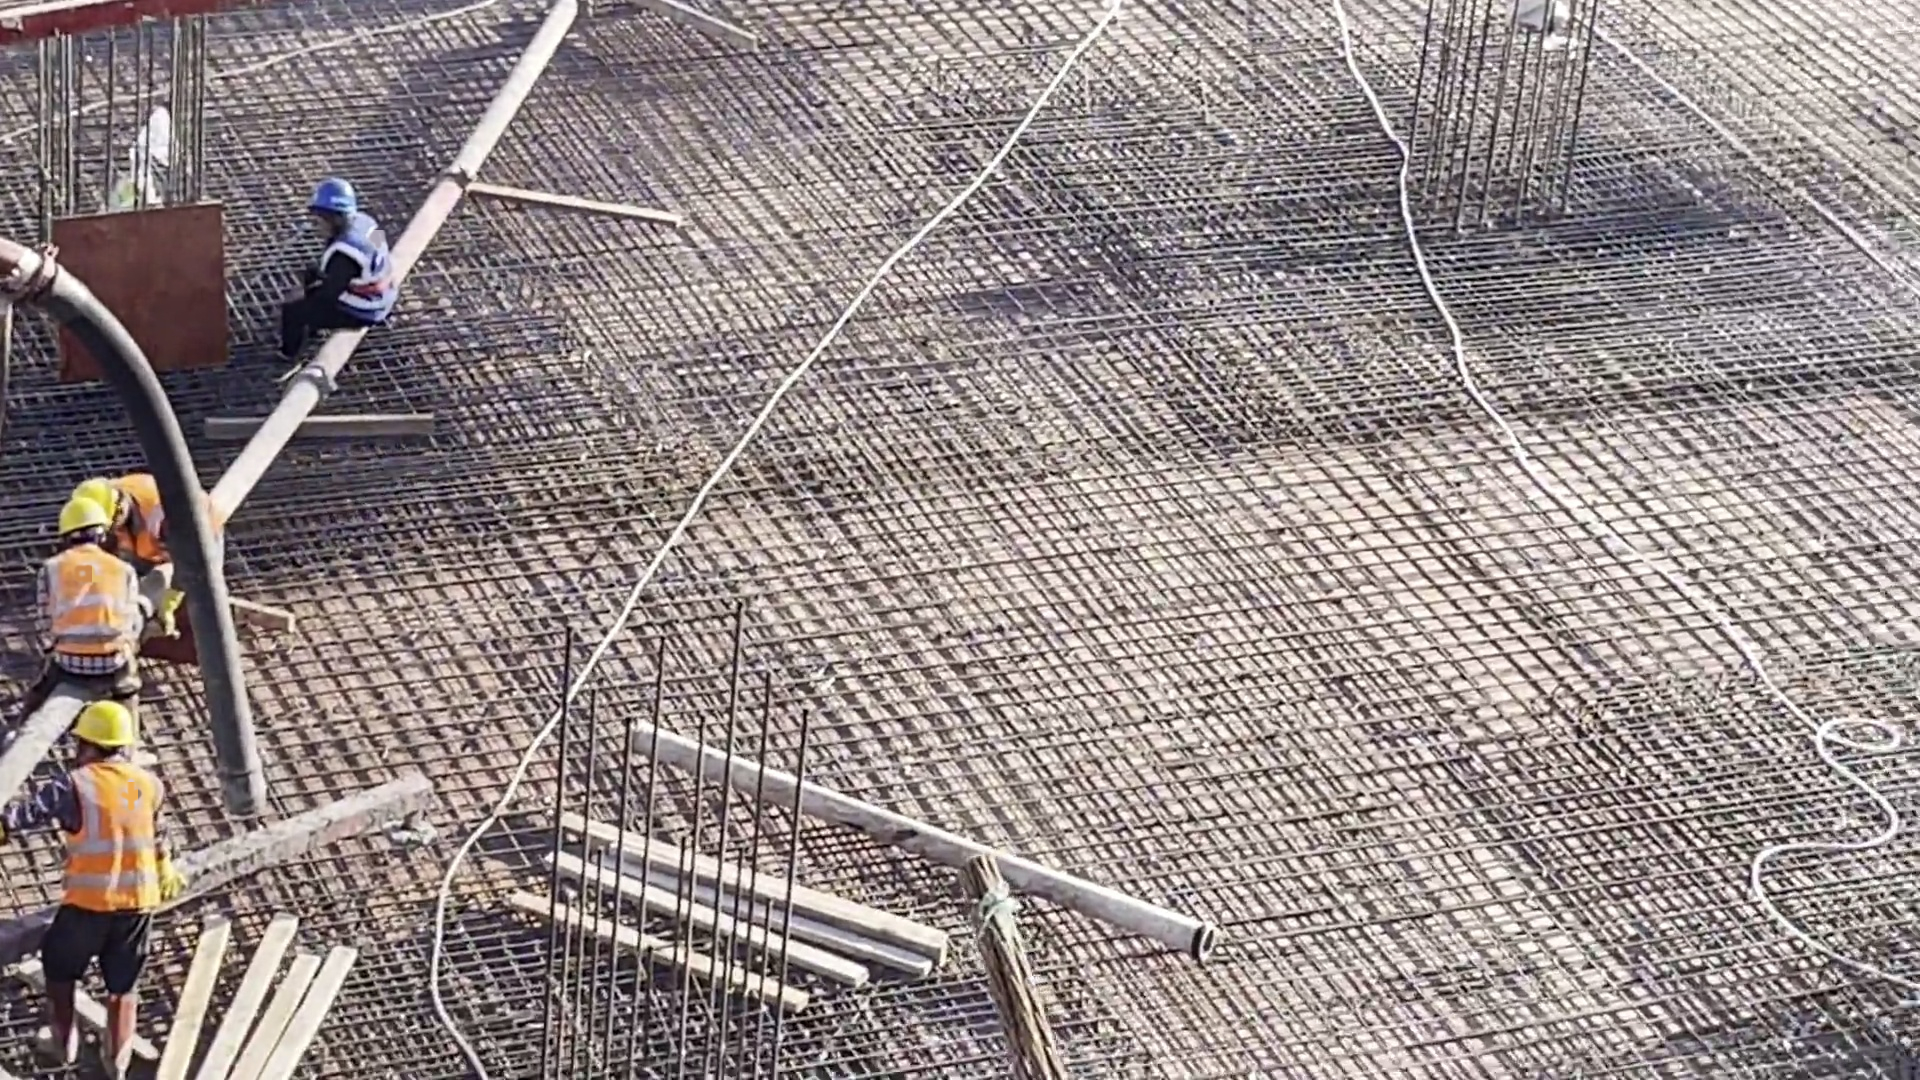helmet: (73, 708, 137, 744), (80, 472, 117, 512), (305, 180, 353, 208), (52, 505, 103, 527)
person: (18, 703, 169, 1071), (269, 174, 400, 375), (33, 498, 147, 695), (69, 468, 180, 632)
vest: (65, 771, 147, 902), (40, 544, 121, 667), (119, 481, 183, 573), (320, 235, 389, 311)
